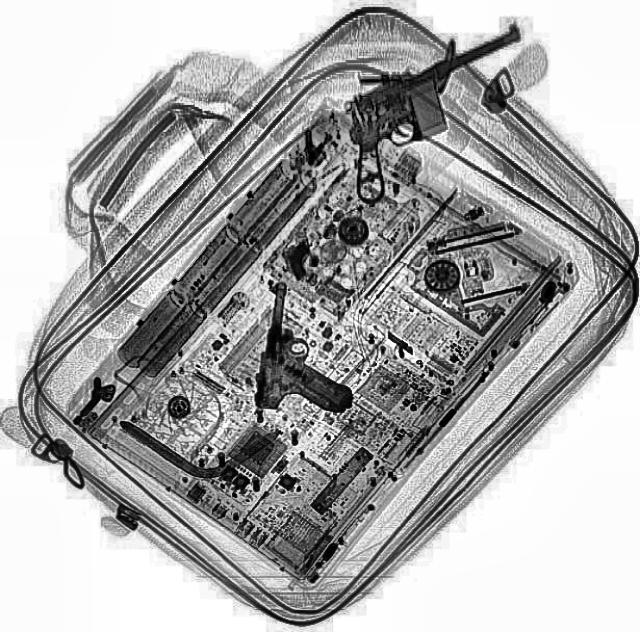Gun: (312, 23, 564, 205), (250, 278, 368, 418)
